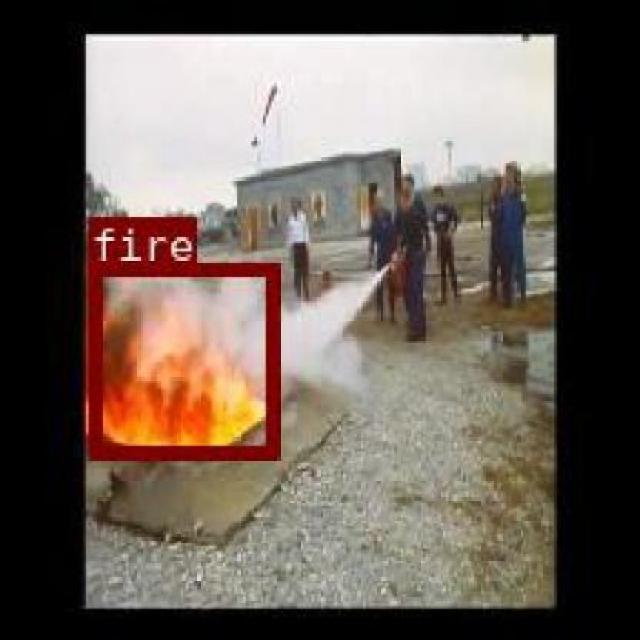Fire: (180, 194, 189, 359)
